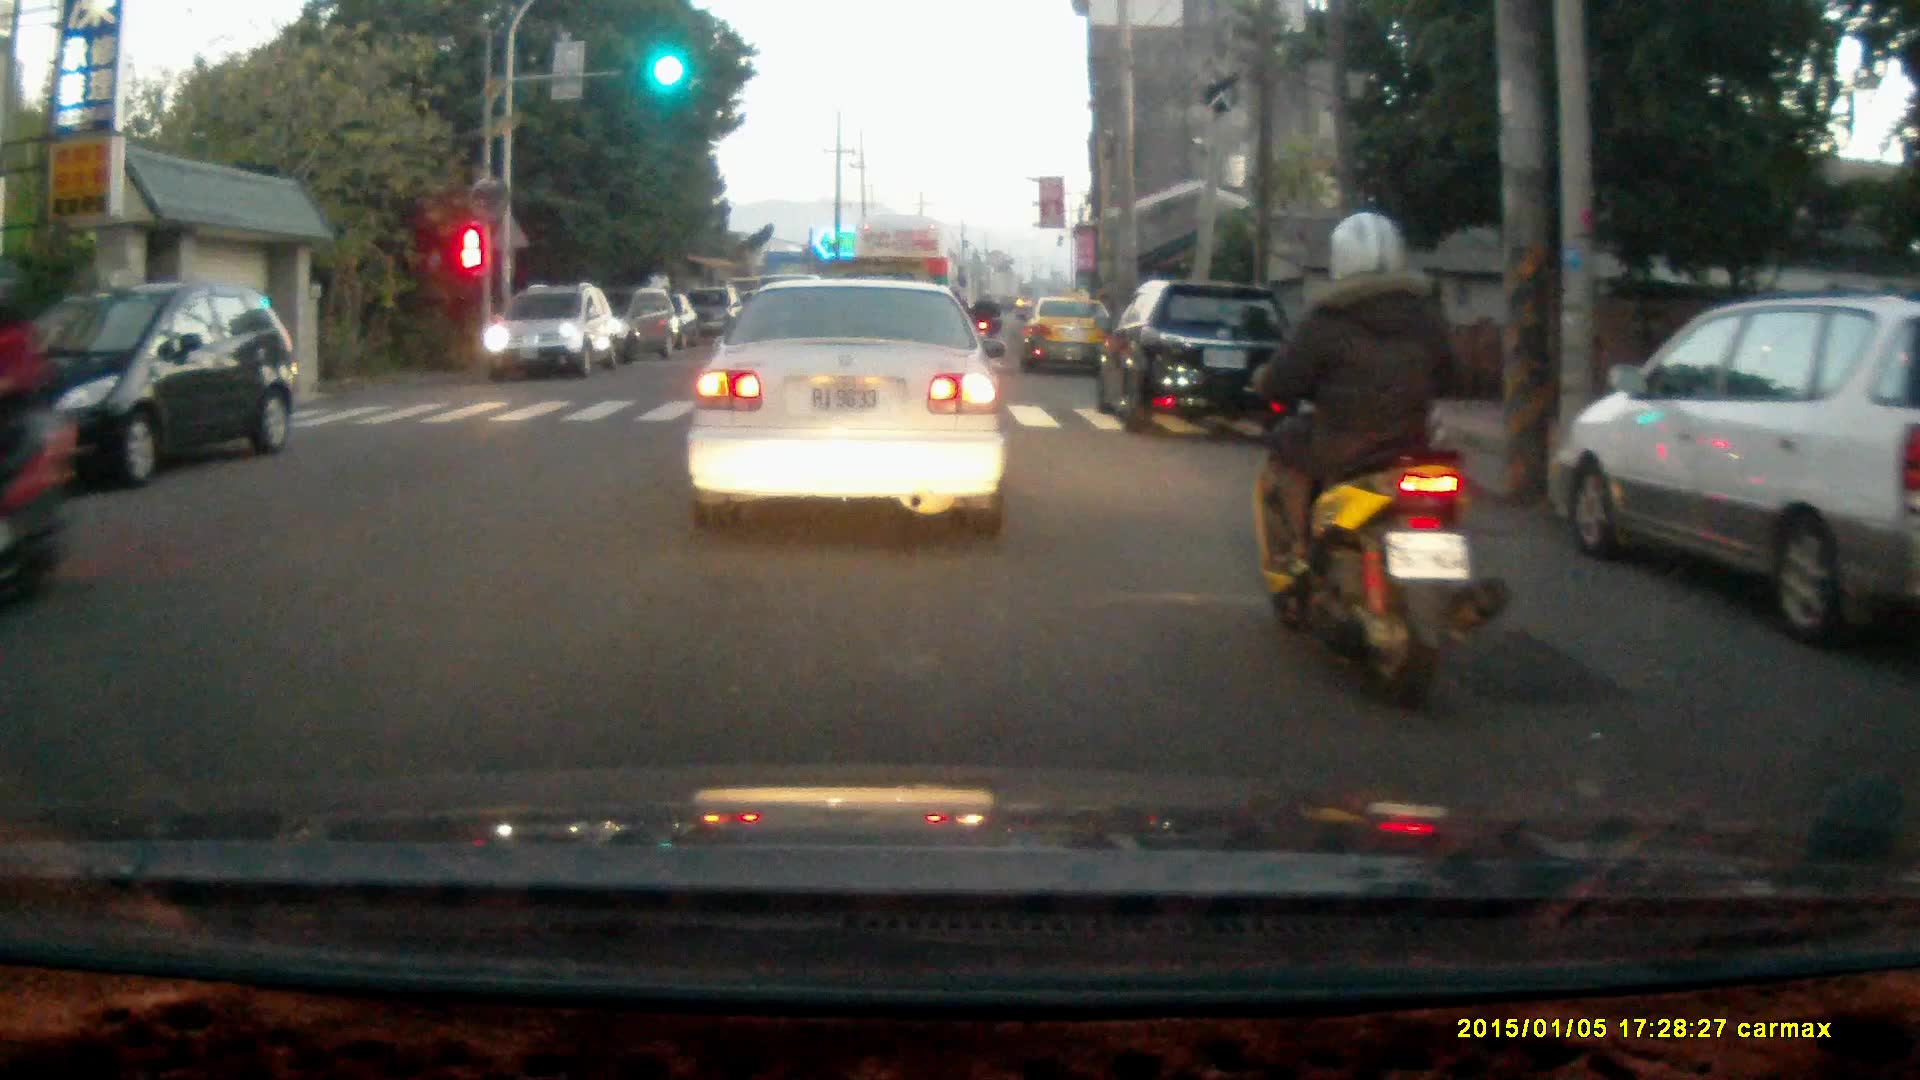rider: (1232, 213, 1513, 714), (0, 252, 73, 620)
vehicle: (1561, 295, 1920, 656), (686, 272, 1010, 537), (1, 280, 302, 505), (1092, 276, 1302, 437), (846, 214, 958, 363), (483, 288, 619, 388), (561, 282, 682, 365), (1021, 294, 1121, 380)
